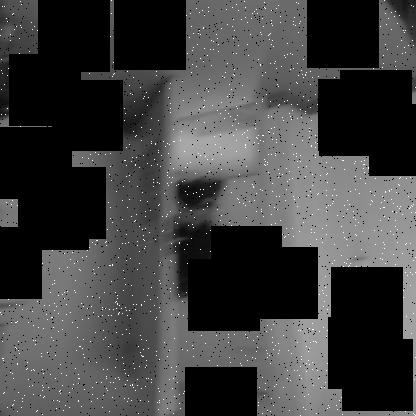Porte: (135, 74, 283, 415)
